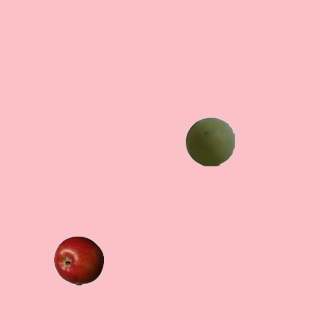Apple Braeburn: (53, 235, 103, 285)
Grape White 4: (184, 116, 234, 166)
